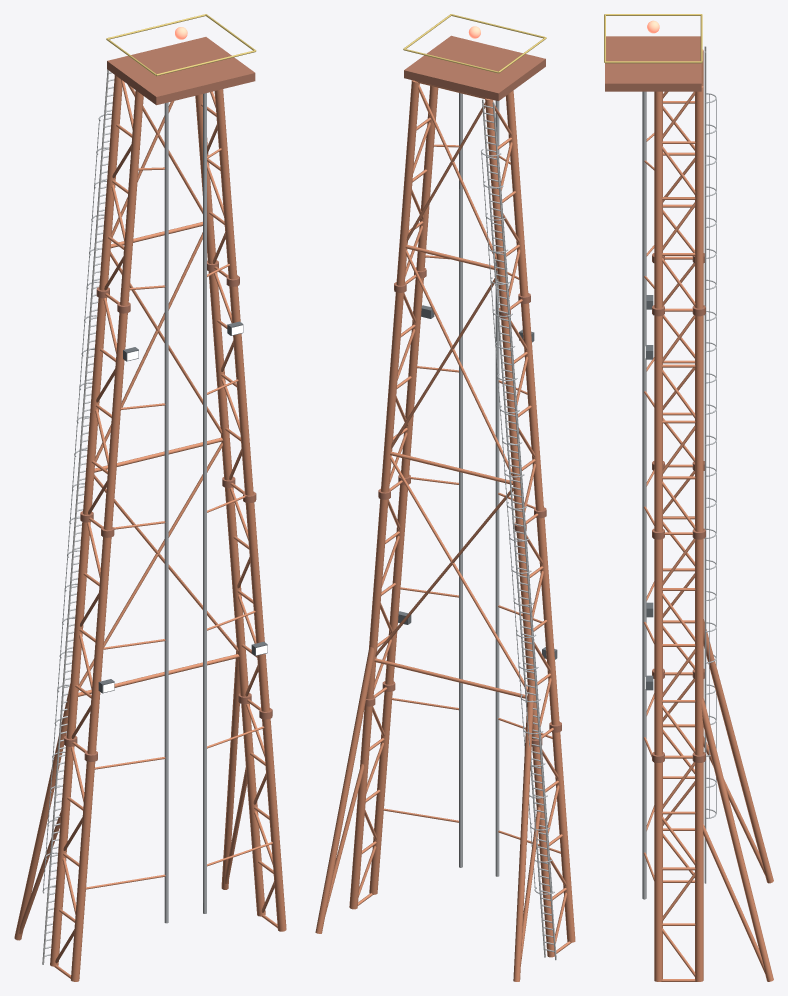
The model's file is mast.glb.
3 renders of one model, left to right at view 1: azimuth 30°, elevation 25°; view 2: azimuth 150°, elevation 25°; view 3: azimuth 270°, elevation 25°, orthographic. The views are drawn at different scales.
Parts seen in each view (by area): view 1: object 1, object 2, object 37, object 38, object 100, object 84, object 92, inst (×2), object 105, object 35, object 71, object 118 (+5 smaller); view 2: object 1, object 38, object 37, object 2, object 100, inst (×3), object 92, object 84, object 35, object 71, object 105, object 106 (+11 smaller); view 3: object 37, object 38, object 100, object 92, object 106, object 71, object 35, inst (×2), object 72, object 116, object 117, object 36.
Boxes of the visible parts, x1,y1,x2,y2 form: object 1: (71, 90, 143, 981); object 2: (50, 75, 122, 966); object 37: (214, 89, 286, 931); object 38: (195, 94, 265, 916); object 100: (107, 37, 255, 105); object 84: (164, 102, 168, 923); object 92: (203, 93, 206, 913); inst (×2): (44, 72, 272, 956); object 105: (42, 69, 108, 964); object 35: (14, 684, 70, 940); object 71: (221, 651, 240, 889); object 118: (43, 120, 99, 891); object 1: (505, 90, 575, 942); object 38: (349, 80, 419, 909); object 37: (369, 86, 438, 894); object 2: (485, 98, 554, 957); object 100: (404, 35, 545, 100); inst (×3): (365, 105, 561, 952); object 92: (459, 93, 462, 867); object 84: (495, 100, 499, 876); object 35: (513, 686, 533, 981); object 71: (315, 647, 374, 933); object 105: (492, 102, 556, 960); object 106: (482, 99, 545, 957); object 37: (654, 91, 662, 981); object 38: (695, 86, 703, 981); object 100: (605, 36, 701, 91); object 92: (642, 91, 646, 899); object 106: (704, 51, 706, 883); object 71: (701, 697, 773, 981); object 35: (703, 619, 773, 883); inst (×2): (652, 93, 716, 818); object 72: (702, 824, 765, 974); object 116: (709, 103, 709, 817); object 117: (716, 99, 716, 813); object 36: (703, 736, 765, 875).
Size of the model in its own units: 9.75 by 39.51 by 6.68.
